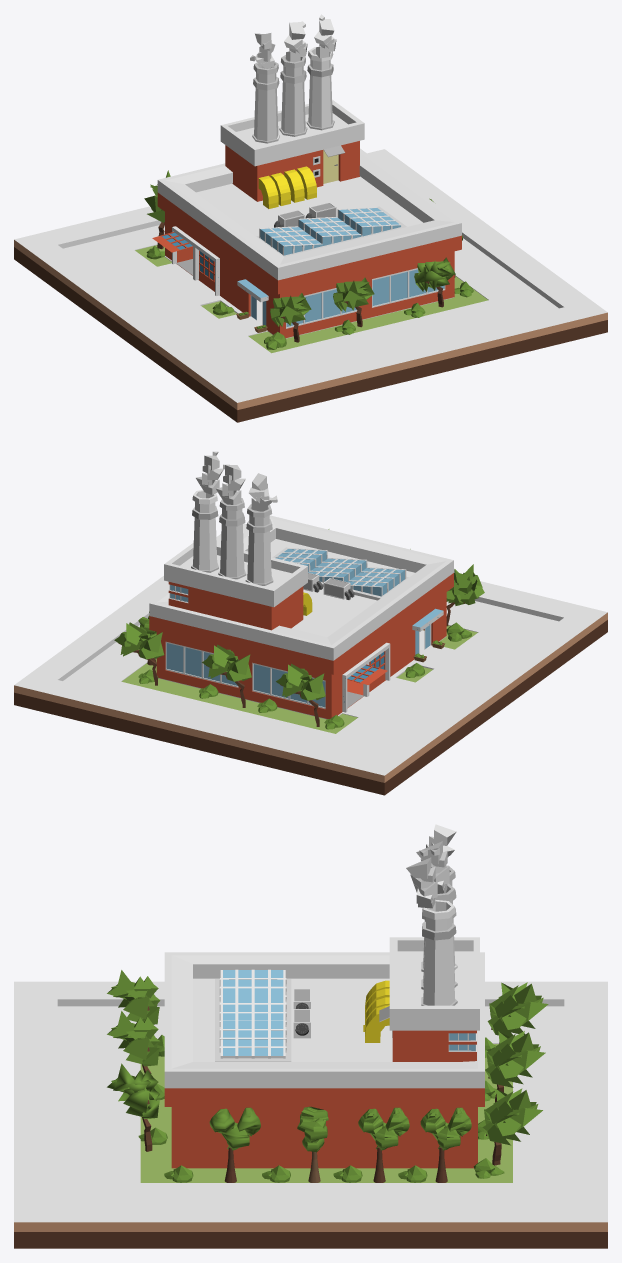
The model's file is factory.glb.
3 renders of one model, top to bottom at view 1: azimuth 30°, elevation 25°; view 2: azimuth 150°, elevation 25°; view 3: azimuth 270°, elevation 25°, orthographic. The views are drawn at different scales.
Parts seen in each view (by area): view 1: Plane.002, Cube.011, Cube.014, Cube.013, Cube.032, Cube.033, Cube.038; view 2: Plane.002, Cube.016, Cube.018, Cube.020, Cube.014, Cube.032, Cube.033, Cube.038; view 3: Plane.002, Cube.018, Cube.016, Cube.020, Cube.011, Cube.013, Cube.014, Cube.033, Cube.032.
Part boxes in pixels (box(x1,y1,x2,y2)): Plane.002: box(14, 47, 607, 422); Cube.011: box(333, 277, 374, 311); Cube.014: box(270, 293, 311, 326); Cube.013: box(414, 257, 455, 291); Cube.032: box(284, 21, 307, 62); Cube.033: box(314, 14, 336, 58); Cube.038: box(250, 33, 275, 68); Plane.002: box(14, 490, 607, 795); Cube.016: box(114, 622, 164, 659); Cube.018: box(202, 644, 251, 681); Cube.020: box(276, 663, 325, 700); Cube.014: box(446, 564, 484, 605); Cube.032: box(215, 464, 245, 504); Cube.033: box(196, 451, 223, 494); Cube.038: box(248, 473, 277, 511); Plane.002: box(14, 865, 607, 1248); Cube.018: box(485, 1031, 545, 1087); Cube.016: box(482, 1088, 542, 1145); Cube.020: box(487, 982, 548, 1036); Cube.011: box(107, 1011, 160, 1066); Cube.013: box(107, 1063, 159, 1119); Cube.014: box(107, 970, 160, 1024); Cube.033: box(406, 849, 437, 908); Cube.032: box(416, 841, 449, 893).
Bounding box in the file's own units: 35.94 × 21.88 × 37.5.
2 materials, 1 textured.
